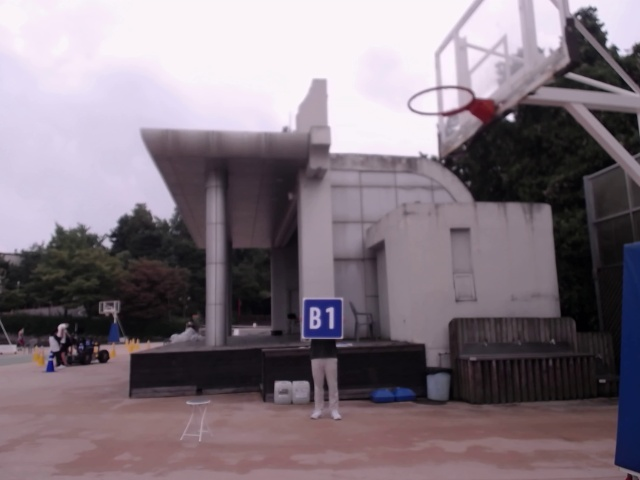delivery_b1: (302, 298, 343, 339)
